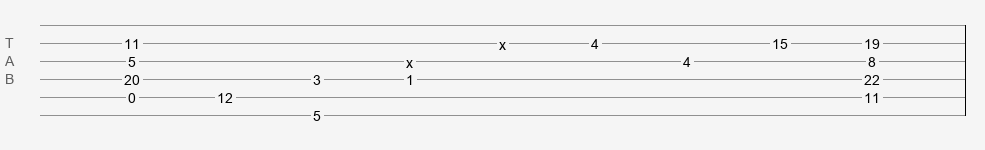0: (128, 90, 136, 100)
1: (406, 72, 414, 82)
11: (124, 36, 140, 46), (864, 90, 880, 100)
12: (217, 90, 233, 100)
15: (772, 36, 788, 46)
19: (864, 36, 880, 46)
20: (124, 72, 140, 82)
22: (864, 72, 880, 82)
3: (313, 72, 321, 82)
4: (591, 36, 599, 46), (683, 54, 691, 64)
5: (128, 54, 136, 64), (313, 108, 321, 118)
8: (868, 54, 876, 64)
x: (406, 55, 413, 63), (499, 37, 506, 45)
